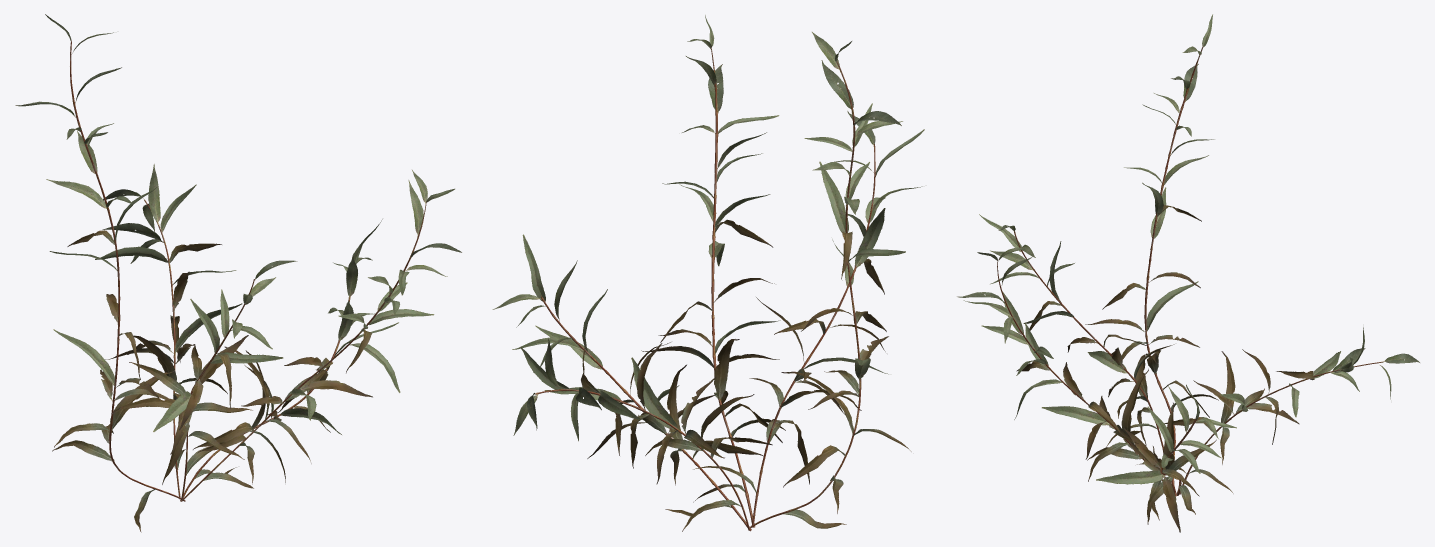
Rendered from shrub.glb.
3 renders of one model, left to right at view 1: azimuth 30°, elevation 25°; view 2: azimuth 150°, elevation 25°; view 3: azimuth 270°, elevation 25°, orthographic. The views are drawn at different scales.
Parts seen in each view (by area): view 1: shrub_02_a; view 2: shrub_02_a; view 3: shrub_02_a.
Part boxes in pixels (x1,y1,x2,y2): shrub_02_a: (15,14,461,532); shrub_02_a: (492,15,924,531); shrub_02_a: (957,14,1419,532).
Size of the model in its own units: 1.31 by 1.69 by 1.64.
1 material, 1 textured.
